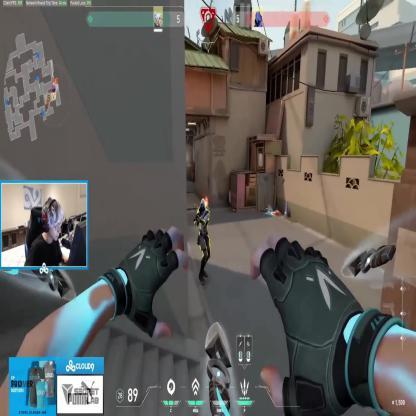enemy: (194, 196, 212, 285)
enemy_head: (199, 199, 206, 211)
